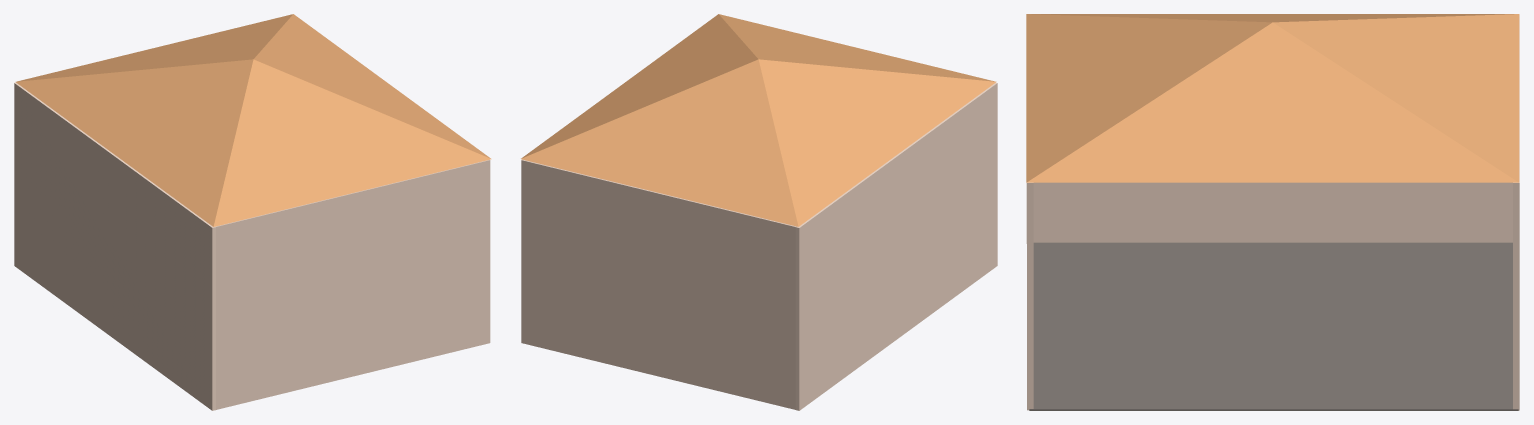
The model's file is sinmesa.glb.
3 views of the same model, side by side, from view 1: azimuth 30°, elevation 25°; view 2: azimuth 150°, elevation 25°; view 3: azimuth 270°, elevation 25° (orthographic). The views are drawn at different scales.
Visible parts, largest first — view 1: Cubo.001, Cube.003, Cube.004; view 2: Cubo.001, Cube.001, Cube.004; view 3: Cubo.001, Cubo, Cube.004, Cube.001, Cube.003.
Boxes of the visible parts, x1,y1,x2,y2 form: Cubo.001: [16, 14, 491, 226]; Cube.003: [215, 159, 490, 409]; Cube.004: [14, 82, 215, 410]; Cubo.001: [521, 14, 996, 226]; Cube.001: [521, 159, 796, 409]; Cube.004: [795, 82, 997, 410]; Cubo.001: [1026, 14, 1519, 182]; Cubo: [1029, 242, 1518, 410]; Cube.004: [1026, 14, 1519, 243]; Cube.001: [1513, 17, 1519, 410]; Cube.003: [1027, 182, 1033, 410].
Bounding box in the file's own units: 23.89 × 20.03 × 29.41.
